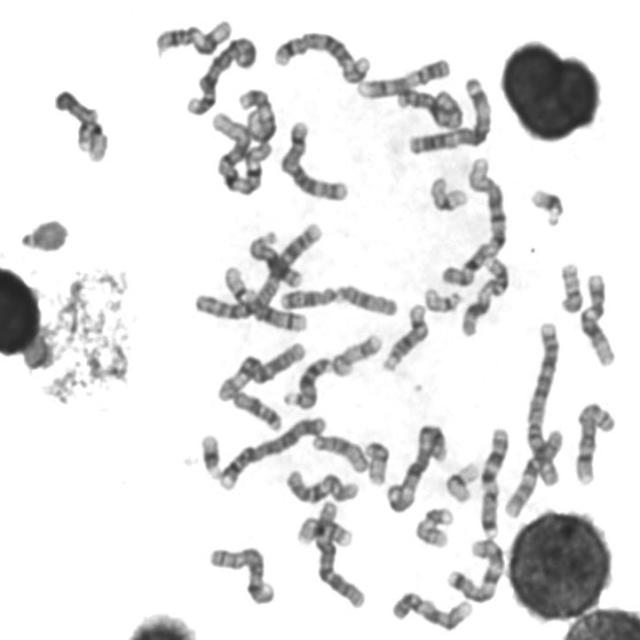A1: (436, 153, 509, 290), (208, 107, 270, 198)
A2: (189, 216, 326, 324), (523, 316, 564, 488)
A3: (402, 72, 495, 156), (383, 418, 451, 514)
B4: (215, 411, 328, 492), (183, 31, 259, 118)
B5: (277, 116, 351, 203), (270, 26, 372, 86)
C10: (500, 424, 566, 520), (283, 464, 362, 506)
C11: (456, 251, 512, 339), (151, 15, 234, 58)
C12: (577, 268, 619, 368), (234, 84, 279, 144)
C6: (310, 494, 368, 610), (213, 336, 308, 403)
C7: (443, 534, 508, 605), (476, 421, 512, 540)
C8: (204, 542, 277, 607), (570, 397, 618, 488)
C9: (353, 53, 453, 100), (387, 586, 476, 633)
D13: (243, 228, 304, 290), (280, 351, 334, 410)
D14: (219, 261, 309, 333), (378, 299, 432, 374)
D15: (308, 429, 371, 474), (335, 280, 400, 316)
E16: (55, 88, 107, 164), (293, 511, 355, 550)
E17: (328, 328, 384, 379), (411, 503, 455, 550)
E18: (226, 385, 284, 432), (277, 286, 342, 311)
F19: (441, 456, 482, 505), (426, 171, 471, 214)
F20: (556, 256, 586, 315), (361, 436, 392, 488)
G21: (526, 183, 568, 228), (196, 429, 224, 480)
G22: (16, 217, 70, 254), (419, 282, 465, 314)
X: (392, 82, 465, 132)
